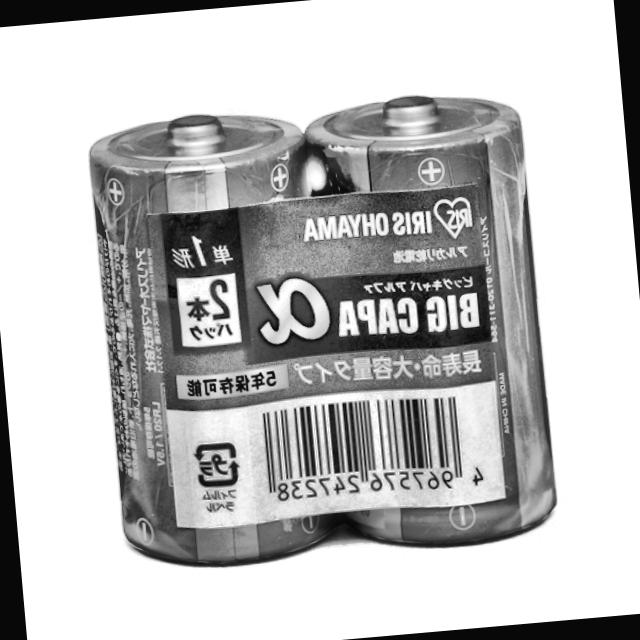drycell: (296, 78, 574, 556), (76, 98, 342, 576)
